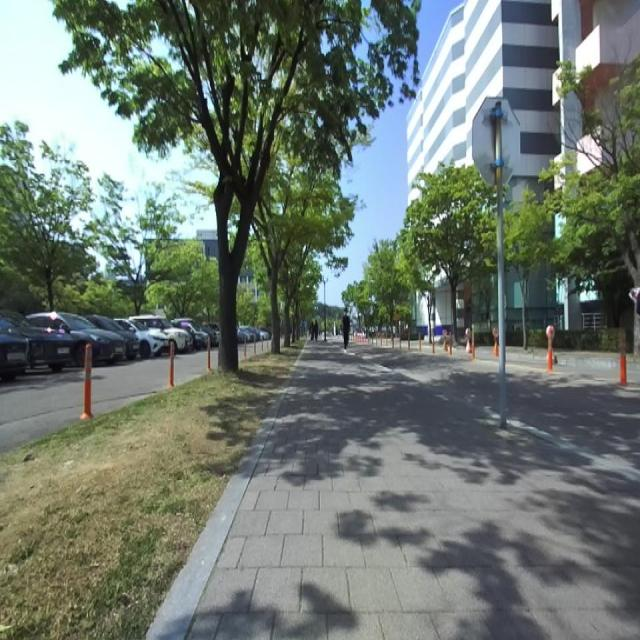sidewalk: (184, 339, 640, 640), (143, 341, 308, 640)
